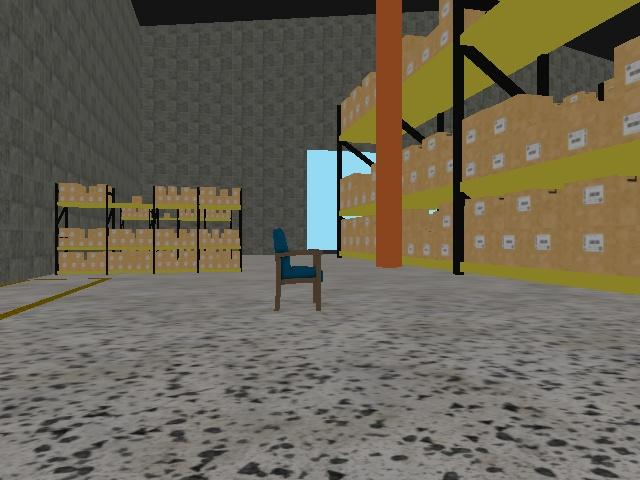chair: (269, 225, 326, 313)
